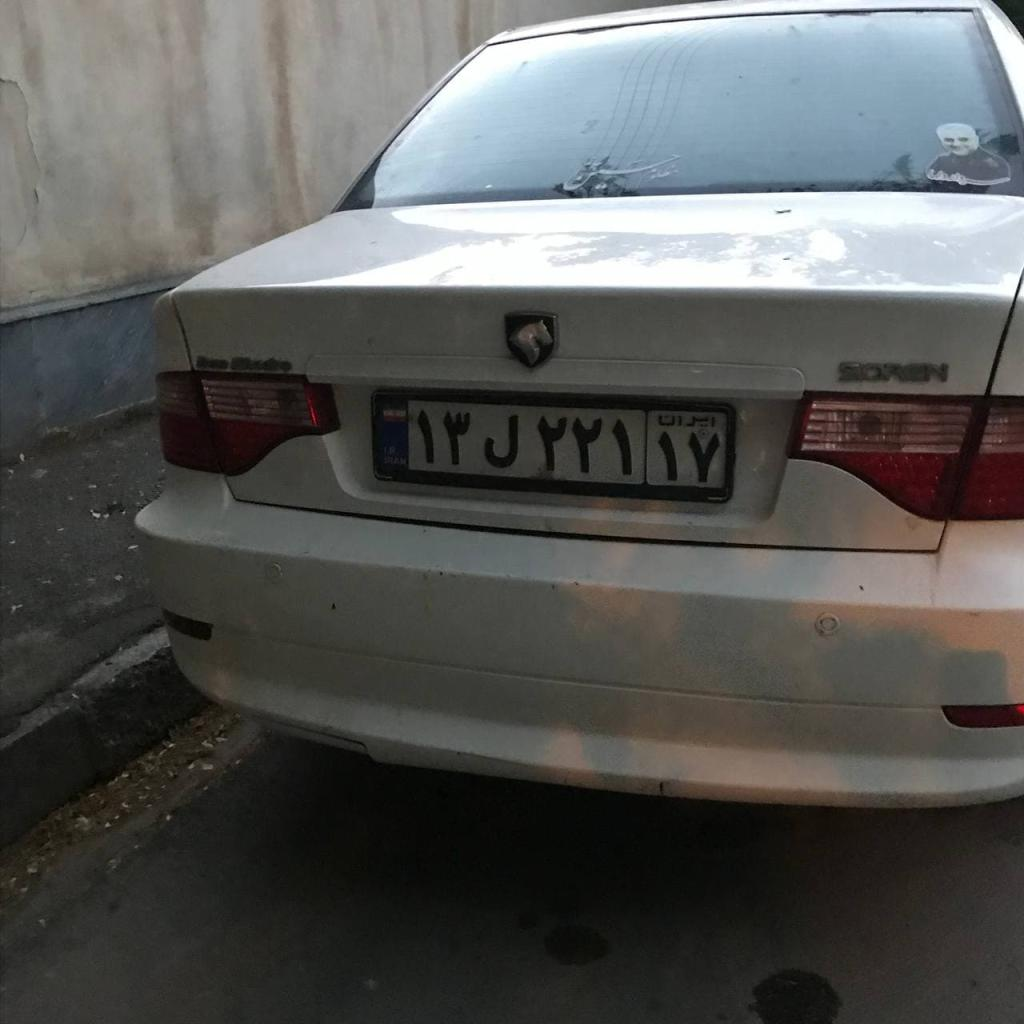Plates: (375, 397, 729, 490)
